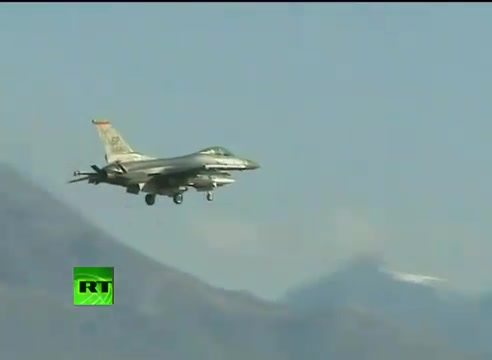aeroplane: (68, 119, 263, 207)
